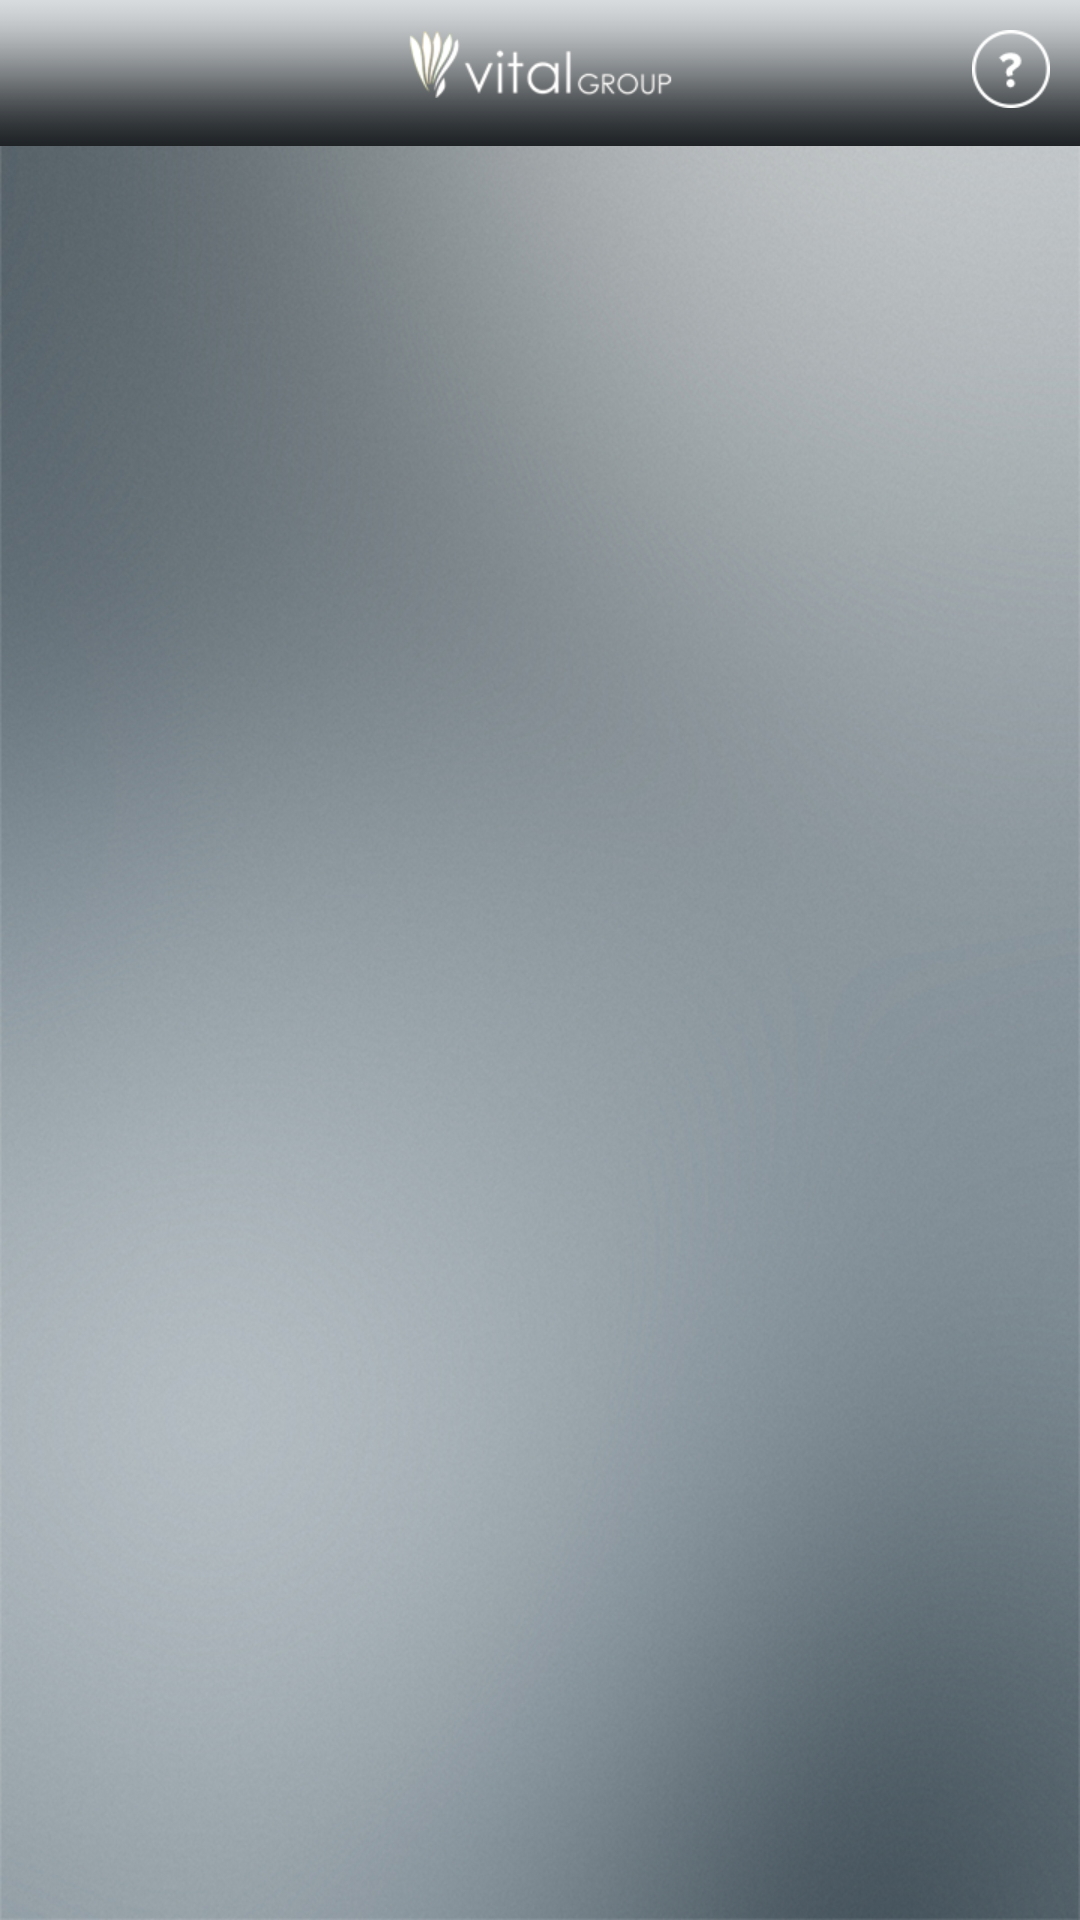

Icon click points for this 1080 × 1920 phone screenshot, format [x,y]:
help: [1011,69]
